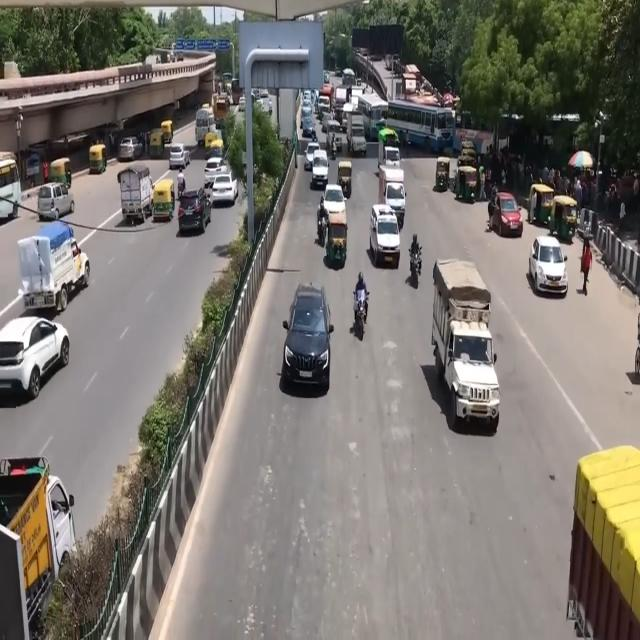auto: (455, 159, 483, 215), (553, 191, 580, 246), (153, 176, 175, 236), (50, 154, 76, 198), (529, 178, 551, 229), (339, 156, 357, 206), (88, 141, 108, 185), (434, 151, 452, 199), (149, 129, 166, 166), (160, 115, 175, 146), (208, 140, 224, 168), (205, 129, 218, 155)
bike-auto: (346, 270, 378, 346), (407, 226, 428, 312), (316, 186, 332, 260), (175, 166, 187, 208), (331, 131, 339, 160)
